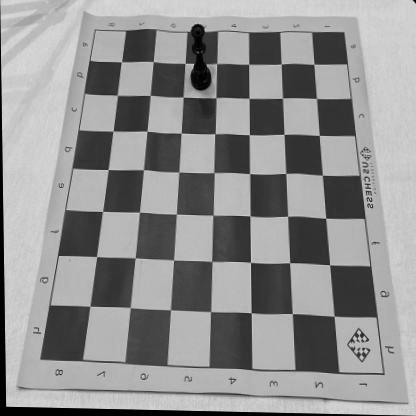black-queen: (190, 24, 212, 92)
